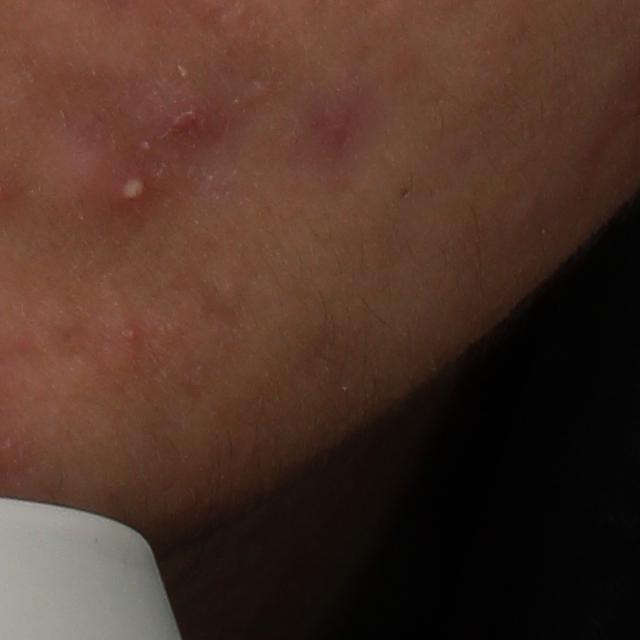papule: (54, 144, 124, 217), (161, 101, 209, 146)
pustule: (118, 170, 151, 203)
